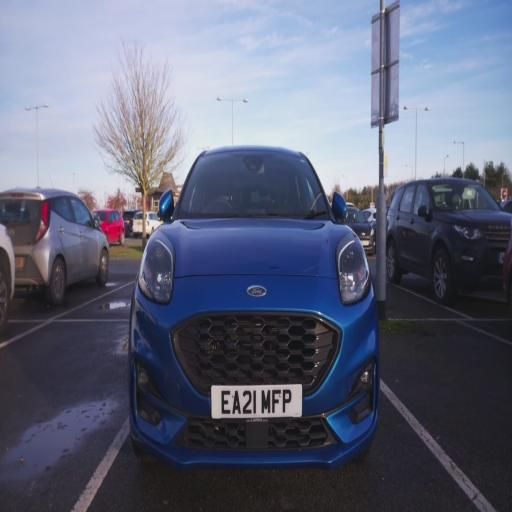numberplates: (211, 384, 302, 418), (14, 256, 24, 270), (498, 253, 504, 264), (133, 220, 142, 226), (361, 240, 370, 246)
